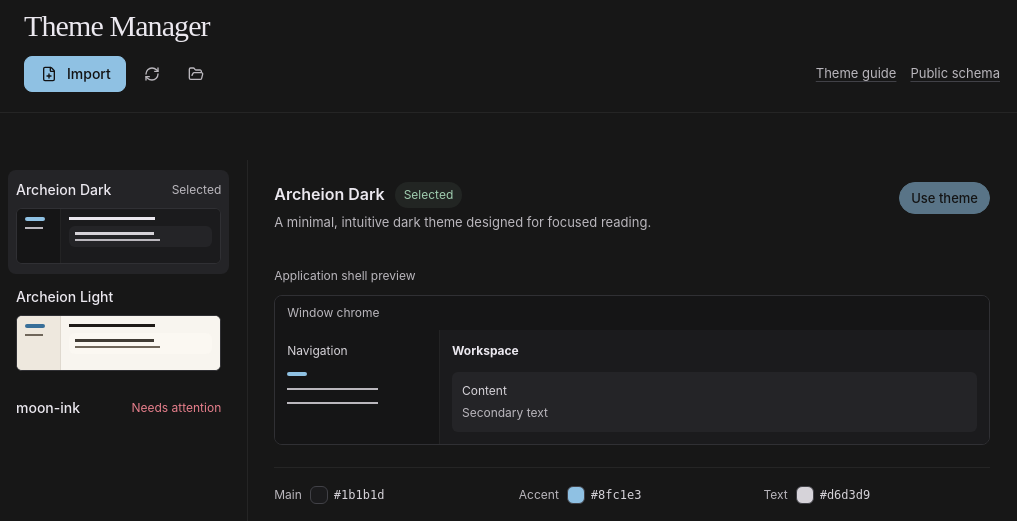
Test: ThemeManagerSurface preview ownership › does not resolve a shell for an invalid package
Click the button "moon-ink Needs attention".
click(119, 408)  # box [8,384,229,432]
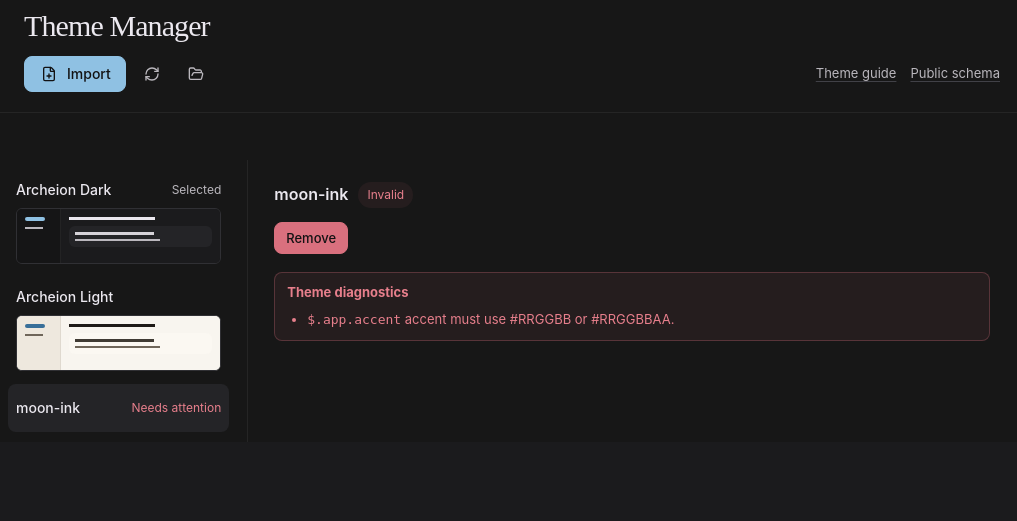
Result: the message "Theme diagnostics $.app.accent accent must use #RRGGBB or #RRGGBBAA." is shown at [274,272,990,340]
Result: the element with class "theme-shell-preview" is gone
Result: the element with class "theme-details__swatches" is gone
